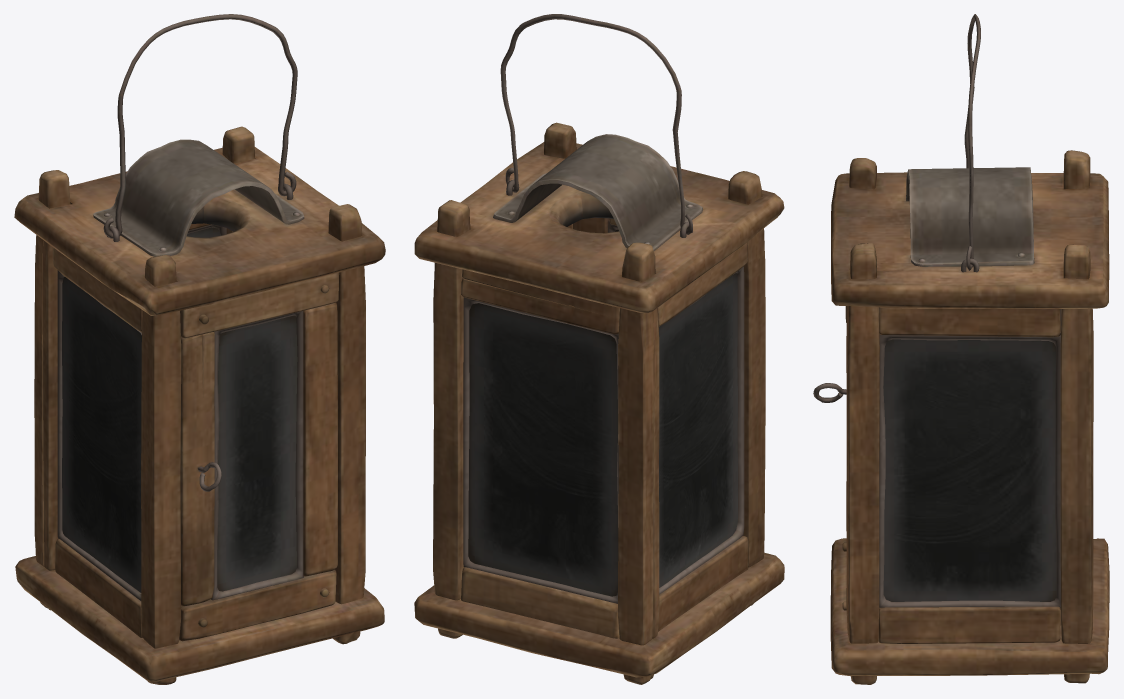
The model's file is lantern.jpg-4vcDMrtv.glb.
3 renders of one model, left to right at view 1: azimuth 30°, elevation 25°; view 2: azimuth 150°, elevation 25°; view 3: azimuth 270°, elevation 25°, orthographic.
Visible parts, largest first — view 1: wooden_lantern_01, wooden_lantern_01_door, wooden_lantern_01_handle; view 2: wooden_lantern_01, wooden_lantern_01_handle, wooden_lantern_01_door; view 3: wooden_lantern_01, wooden_lantern_01_handle, wooden_lantern_01_door.
Part boxes in pixels (left/top/right/bottom): wooden_lantern_01: left=14, top=126, right=385, bottom=684; wooden_lantern_01_door: left=179, top=272, right=339, bottom=641; wooden_lantern_01_handle: left=103, top=14, right=297, bottom=238; wooden_lantern_01: left=414, top=122, right=784, bottom=684; wooden_lantern_01_handle: left=500, top=14, right=692, bottom=234; wooden_lantern_01_door: left=573, top=217, right=618, bottom=233; wooden_lantern_01: left=830, top=150, right=1109, bottom=684; wooden_lantern_01_handle: left=964, top=14, right=980, bottom=270; wooden_lantern_01_door: left=813, top=306, right=847, bottom=610.
Size of the model in its own units: 0.2211 by 0.5301 by 0.2347.
Materials: 2 (2 with a texture image).
